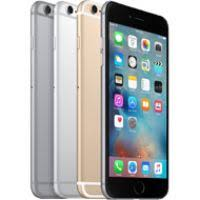iphone: (99, 1, 169, 200)
iphone6: (99, 1, 169, 200)
